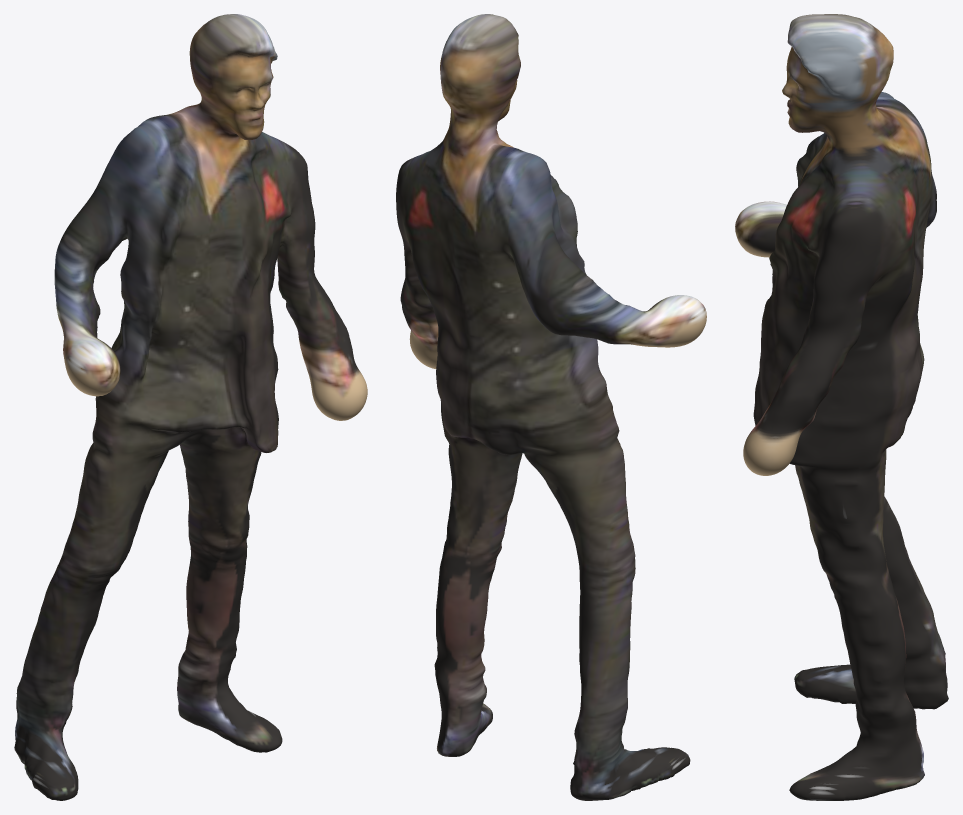
File: cleanup.fbx
3 views of the same model, side by side, from view 1: azimuth 30°, elevation 25°; view 2: azimuth 150°, elevation 25°; view 3: azimuth 270°, elevation 25° (orthographic). The views are drawn at different scales.
Parts seen in each view (by area): view 1: Textured.001; view 2: Textured.001; view 3: Textured.001.
Boxes of the visible parts, bbox=[...] form: Textured.001: bbox=[14, 14, 367, 800]; Textured.001: bbox=[396, 14, 706, 800]; Textured.001: bbox=[735, 14, 948, 800].
Bounding box in the file's own units: 82.37 × 190 × 47.78.
1 material, 1 textured.
